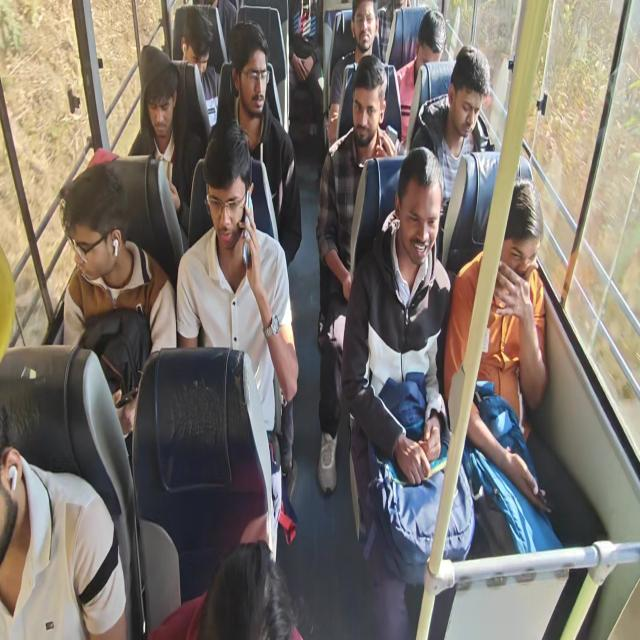person: (67, 169, 135, 269), (202, 153, 252, 251), (495, 193, 540, 292), (228, 37, 273, 125), (402, 163, 438, 264), (0, 412, 26, 547), (452, 54, 488, 150), (139, 51, 175, 135), (178, 17, 218, 91), (354, 69, 382, 138), (418, 10, 447, 75), (353, 1, 381, 48)
